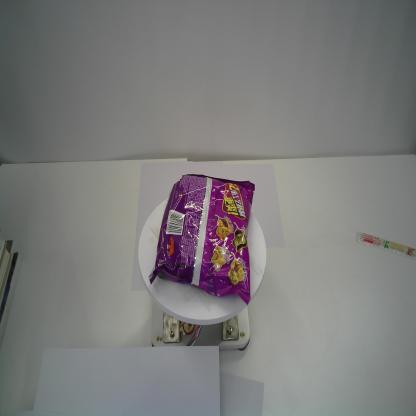Instant Noodles: (148, 170, 254, 309)
